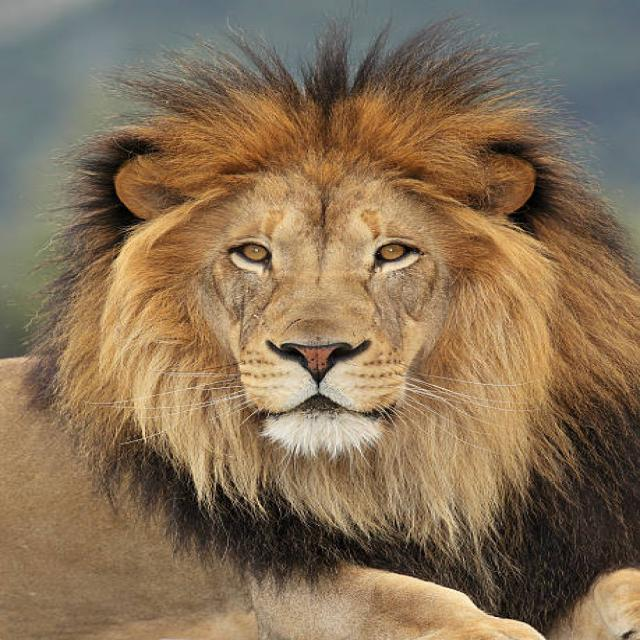lions: (10, 11, 640, 640)
